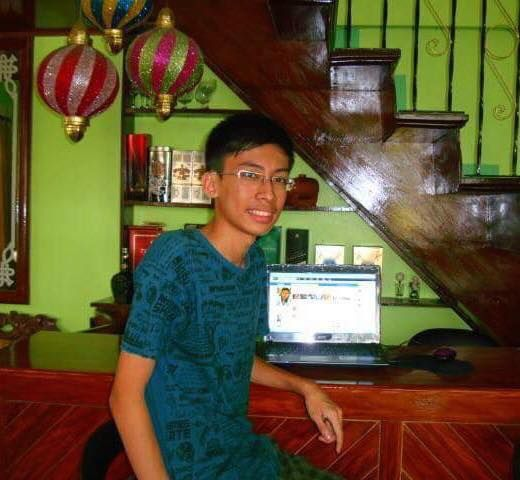people: (114, 119, 343, 480)
